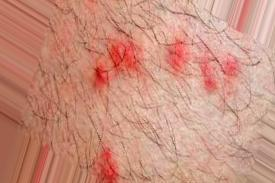Fleas: (108, 41, 139, 71), (96, 146, 119, 183), (197, 56, 219, 93), (171, 42, 185, 70), (93, 66, 108, 88), (223, 55, 237, 75)
